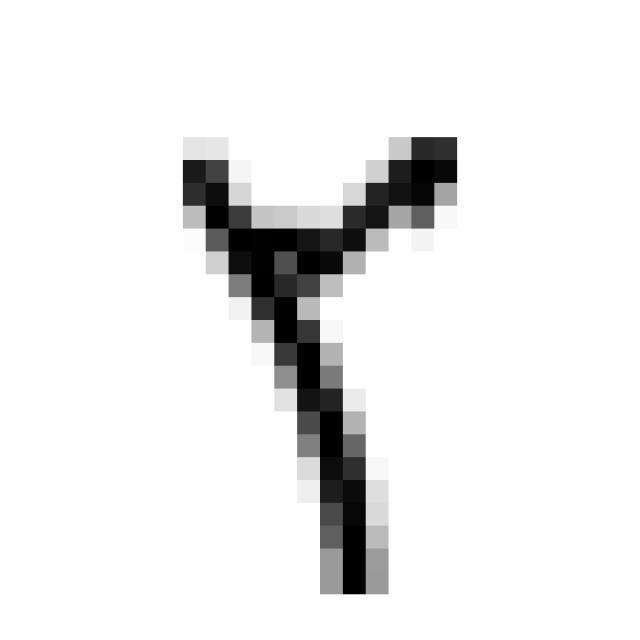3 -three-: (158, 105, 475, 626)
